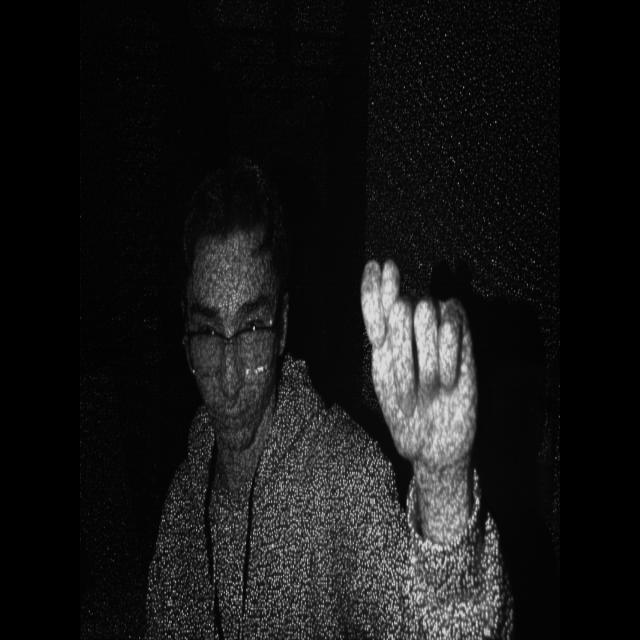T: (351, 241, 485, 470)
